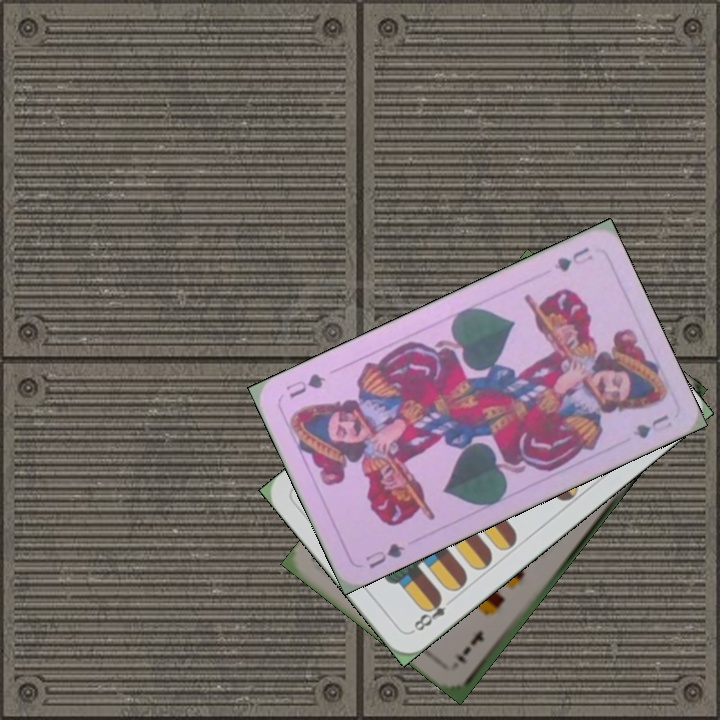E7: (453, 626, 487, 667)
E8: (407, 591, 457, 636)
GU: (361, 539, 407, 572), (550, 243, 596, 274)
